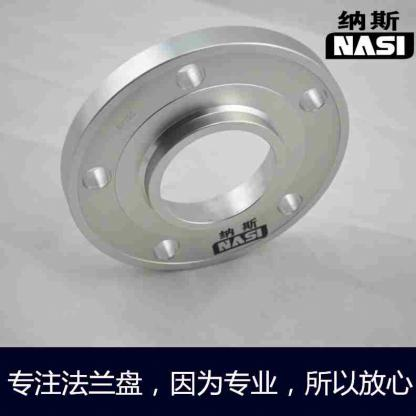FOD: (58, 21, 358, 275)
